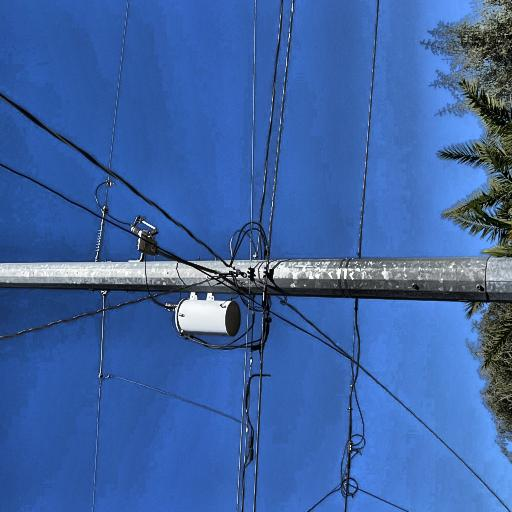pole: (73, 0, 139, 512)
street light: (108, 265, 149, 375)
transformer: (53, 308, 90, 382)
